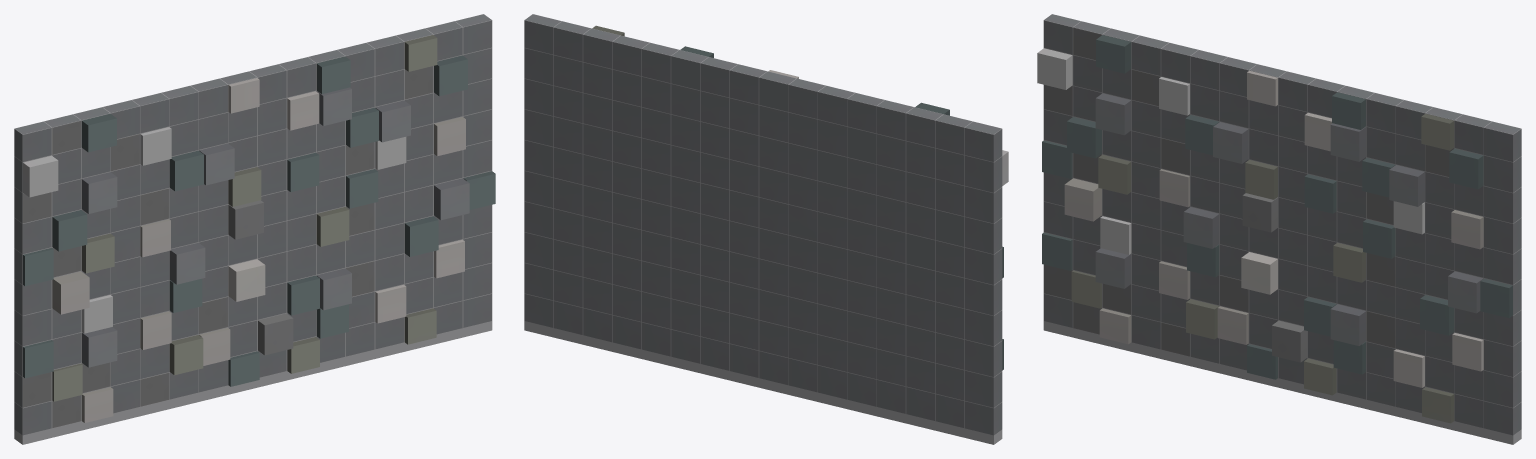
Rendered from MOb_Booth_001_WL_a_16x10.fbx.
The picture shows the model from 3 angles, left to right: view 1: azimuth 30°, elevation 25°; view 2: azimuth 150°, elevation 25°; view 3: azimuth 330°, elevation 25°; orthographic projection.
Visible parts, largest first — view 1: MOb_Booth_001_WL_a_16x10; view 2: MOb_Booth_001_WL_a_16x10; view 3: MOb_Booth_001_WL_a_16x10.
Part boxes in pixels (x1=…): MOb_Booth_001_WL_a_16x10: x1=14, y1=14, x2=495, y2=444; MOb_Booth_001_WL_a_16x10: x1=524, y1=14, x2=1008, y2=444; MOb_Booth_001_WL_a_16x10: x1=1037, y1=14, x2=1521, y2=444.
Bounding box in the file's own units: 16 × 10.1 × 1.01.
